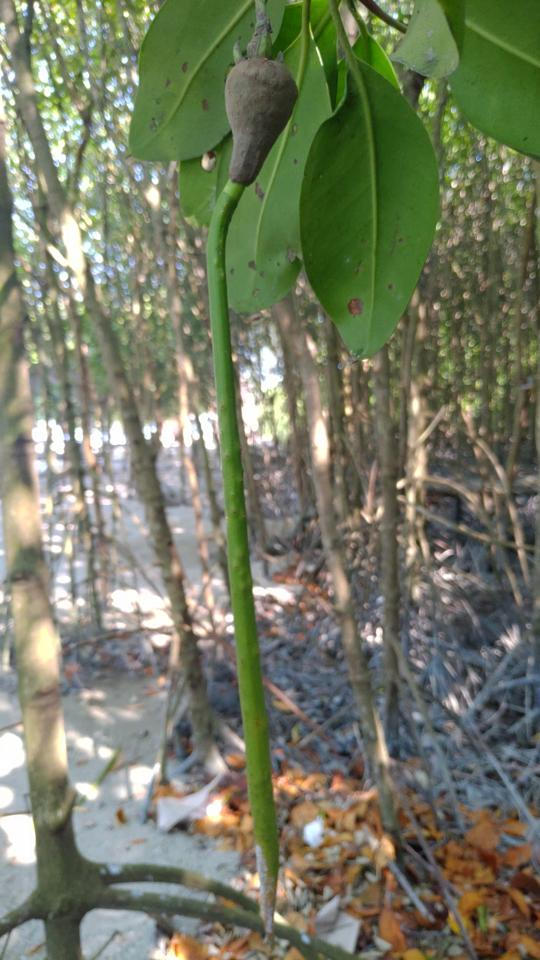setengah matang: (196, 29, 309, 951)
